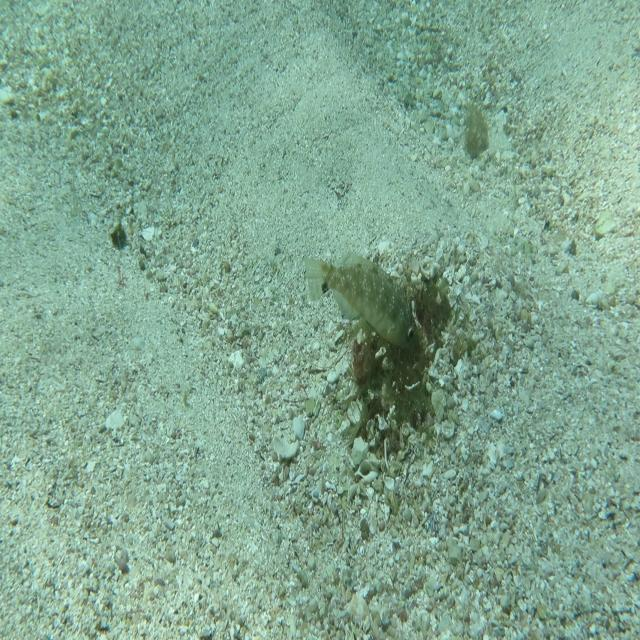NIP_CORE: (304, 251, 421, 356)
nest: (348, 259, 464, 460)
vegetation: (462, 109, 492, 158), (109, 220, 129, 252)
